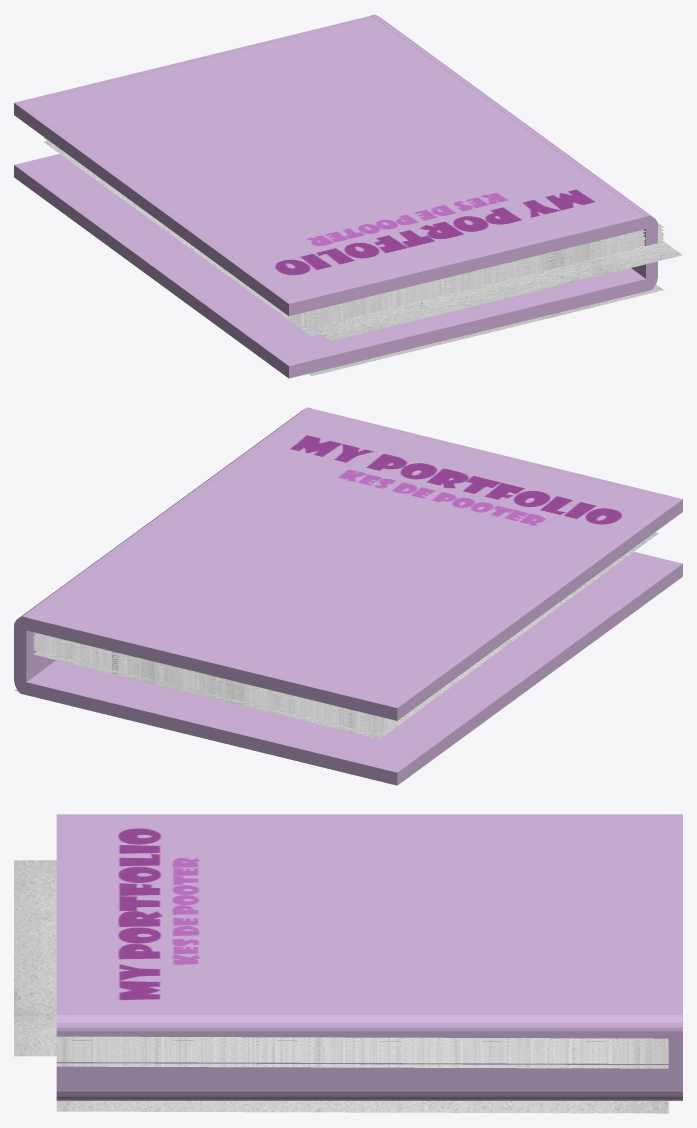
Rendered from animated.book5.glb.
3 renders of one model, top to bottom at view 1: azimuth 30°, elevation 25°; view 2: azimuth 150°, elevation 25°; view 3: azimuth 270°, elevation 25°, orthographic. The views are drawn at different scales.
Parts seen in each view (by area): view 1: left, right, Plane.035, Cube, Plane, Plane.038, Plane.033, Plane.044, Plane.034, Plane.037, Plane.029, Plane.043 (+2 smaller); view 2: left, right, Cube, Plane.033, Plane.044, Plane.041, Plane.040, Plane.029, Plane.037, Plane.043, Plane.038, Plane.042 (+2 smaller); view 3: left, Cube, Plane.035, Plane, Plane.033, Plane.038, Plane.034, Plane.044, Plane.029, Plane.040, Plane.037, Plane.041 (+4 smaller).
Boxes of the visible parts, x1,y1,x2,y2 form: left: (14,15,645,316); right: (14,154,645,378); Plane.035: (312,241,682,341); Cube: (371,14,657,291); Plane: (309,284,663,375); Plane.038: (306,228,663,316); Plane.033: (43,141,320,336); Plane.044: (303,231,663,319); Plane.034: (309,223,663,313); Plane.037: (295,240,663,327); Plane.029: (299,236,663,323); Plane.043: (297,238,663,325); left: (26,408,682,720); right: (26,552,682,785); Cube: (14,407,311,694); Plane.033: (33,532,658,738); Plane.044: (33,634,383,720); Plane.041: (33,595,568,734); Plane.040: (33,646,395,732); Plane.029: (33,639,388,725); Plane.037: (33,643,392,729); Plane.043: (33,641,390,727); Plane.038: (33,632,380,717); Plane.042: (33,645,393,730); left: (56,814,682,1012); Cube: (56,1012,682,1100); Plane.035: (14,860,625,1058); Plane: (56,1101,668,1113); Plane.033: (56,1063,668,1068); Plane.038: (56,1040,668,1045); Plane.034: (56,1036,668,1041); Plane.044: (56,1043,668,1048); Plane.029: (56,1049,668,1053); Plane.040: (56,1057,668,1061); Plane.037: (56,1054,668,1058); Plane.041: (56,1059,668,1063).
Bounding box in the file's own units: 1.58 × 0.3199 × 2.14.
3 materials, 2 textured.
